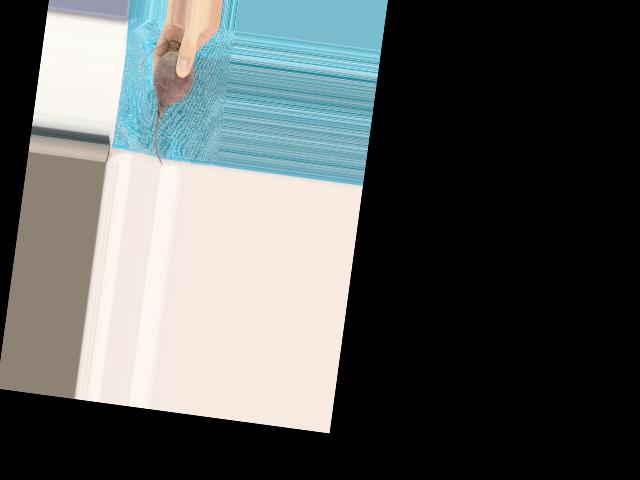beet: (129, 37, 198, 168)
